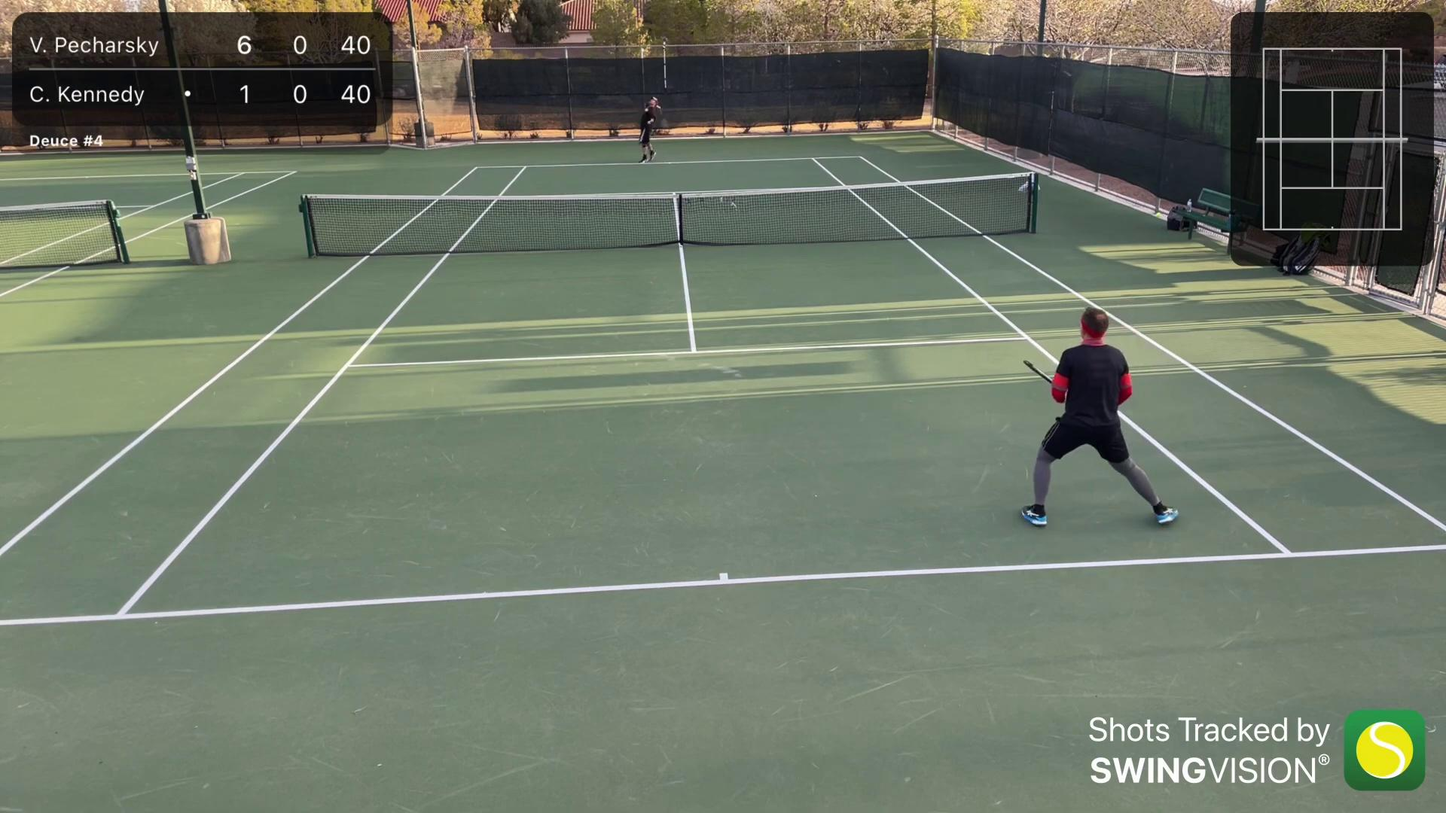ball: (640, 47, 647, 54), (342, 367, 347, 371)
